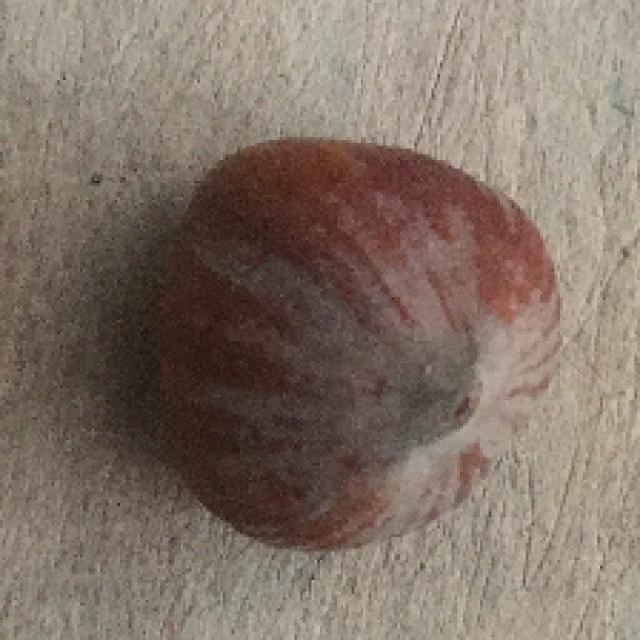qualityHazelnut: (136, 115, 570, 573)
